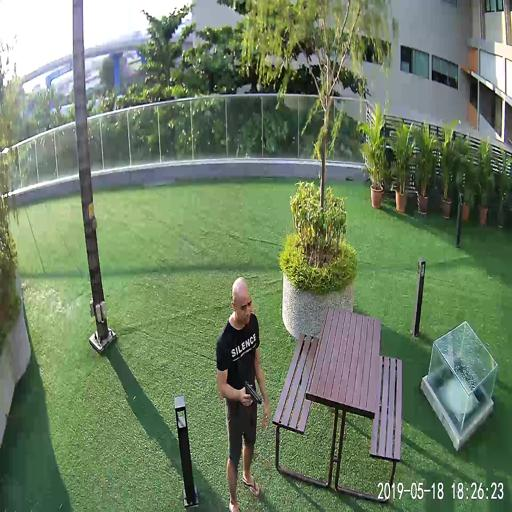pistol: (244, 379, 261, 409)
